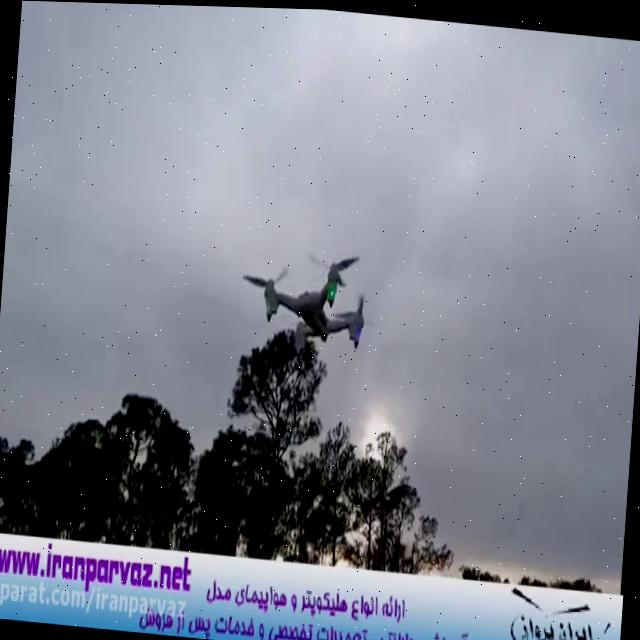drone: (234, 234, 381, 361)
